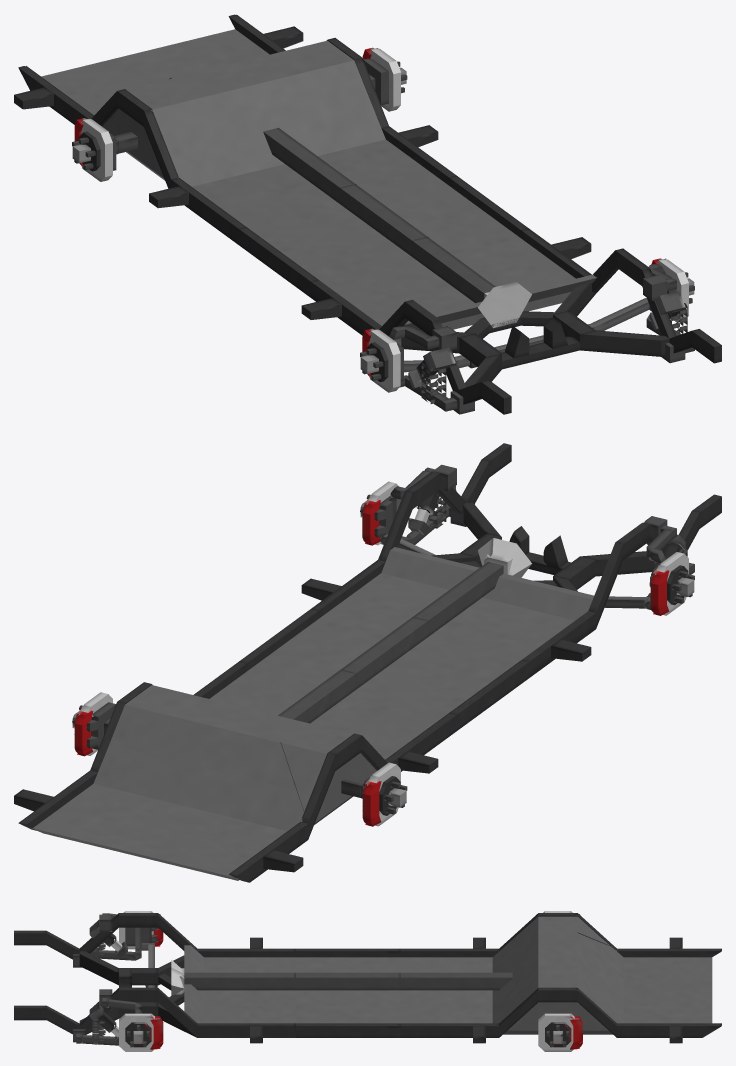
Rendered from lm_suspension_unu_frame_gen5.obj.
3 renders of one model, top to bottom at view 1: azimuth 30°, elevation 25°; view 2: azimuth 150°, elevation 25°; view 3: azimuth 270°, elevation 25°, orthographic. The views are drawn at different scales.
Visible parts, largest first — view 1: $FrameBack, $FrameFront, $FrameCenter, $FrameBack_Extension_Center, $FrameFront_Center, $FrameBack_Right, $FrameFront_Right, $FrameFront_Left, $FrameBack_Left, $FrameBack_Extension_Right, $RightBackWheel, $RightFrontWheel (+14 smaller); view 2: $FrameBack_Extension_Center, $FrameFront, $FrameBack, $FrameCenter, $FrameFront_Right, $FrameFront_Center, $FrameFront_Left, $FrameBack_Extension_Right, $FrameBack_Right, $FrameBack_Extension_Left, $FrameCenter_Right, $RightBackWheel (+9 smaller); view 3: $FrameBack, $FrameBack_Extension_Center, $FrameFront, $FrameCenter, $FrameFront_Left, $FrameBack_Left, $FrameFront_Right, $FrameFront_Center, $FrameBack_Extension_Left, $FrameCenter_Left, $FrameBack_Right, $FrameBack_Extension_Right (+15 smaller).
Part boxes in pixels (bbox=[...]): $FrameBack: bbox=[121, 40, 448, 232]; $FrameFront: bbox=[327, 236, 596, 358]; $FrameCenter: bbox=[255, 184, 520, 285]; $FrameBack_Extension_Center: bbox=[41, 29, 269, 153]; $FrameFront_Center: bbox=[401, 283, 669, 387]; $FrameBack_Right: bbox=[117, 89, 246, 244]; $FrameFront_Right: bbox=[301, 279, 465, 393]; $FrameFront_Left: bbox=[520, 228, 676, 338]; $FrameBack_Left: bbox=[327, 38, 456, 185]; $FrameBack_Extension_Right: bbox=[14, 66, 171, 126]; $RightBackWheel: bbox=[72, 118, 118, 181]; $RightFrontWheel: bbox=[360, 329, 400, 392]; $FrameBack_Extension_Center: bbox=[30, 705, 331, 880]; $FrameFront: bbox=[318, 526, 593, 666]; $FrameBack: bbox=[125, 670, 439, 816]; $FrameCenter: bbox=[246, 617, 511, 719]; $FrameFront_Right: bbox=[521, 522, 664, 678]; $FrameFront_Center: bbox=[378, 502, 654, 591]; $FrameFront_Left: bbox=[301, 471, 466, 618]; $FrameBack_Extension_Right: bbox=[229, 742, 335, 882]; $FrameBack_Right: bbox=[327, 713, 456, 773]; $FrameBack_Extension_Left: bbox=[14, 702, 124, 830]; $FrameCenter_Right: bbox=[449, 660, 528, 730]; $RightBackWheel: bbox=[361, 762, 407, 826]; $FrameBack: bbox=[400, 915, 577, 1034]; $FrameBack_Extension_Center: bbox=[577, 917, 712, 1034]; $FrameFront: bbox=[119, 945, 295, 1023]; $FrameCenter: bbox=[296, 957, 400, 1023]; $FrameFront_Left: bbox=[79, 987, 295, 1043]; $FrameBack_Left: bbox=[400, 987, 577, 1043]; $FrameFront_Right: bbox=[79, 913, 295, 957]; $FrameFront_Center: bbox=[79, 951, 196, 1037]; $FrameBack_Extension_Left: bbox=[577, 988, 721, 1043]; $FrameCenter_Left: bbox=[296, 1023, 400, 1037]; $FrameBack_Right: bbox=[400, 913, 577, 957]; $FrameBack_Extension_Right: bbox=[577, 913, 721, 957].
Bounding box in the file's own units: 2.62 × 0.5781 × 6.75.
